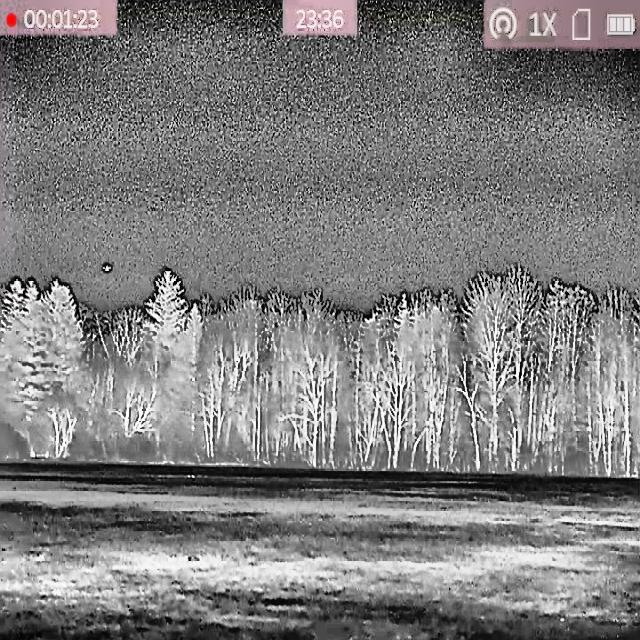drone: (101, 263, 112, 273)
